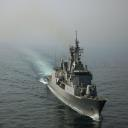Fragata: (7, 23, 70, 122)
